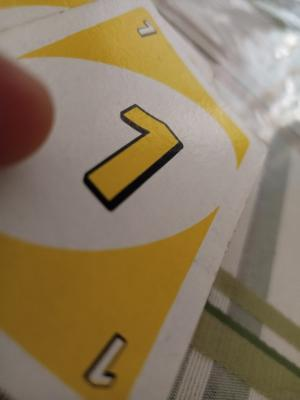num_1: (73, 88, 191, 232)
yellow: (115, 7, 160, 77)
